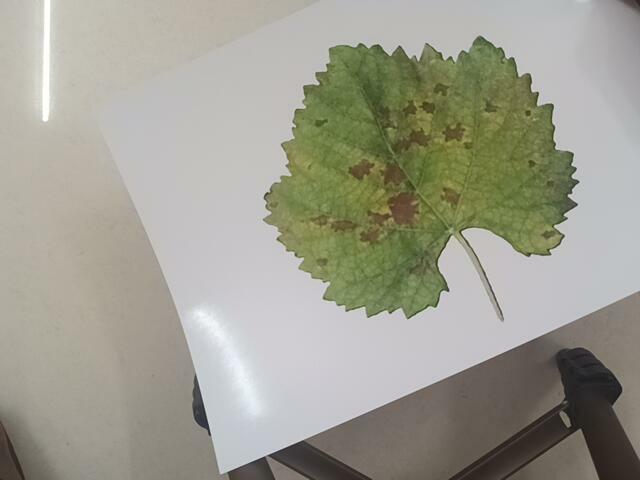Grape_Leaf_Vine_Disease: (262, 15, 607, 327)
